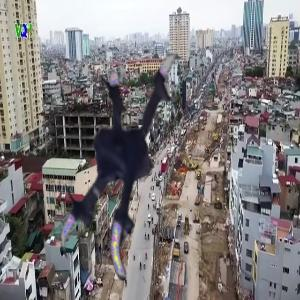drone: (29, 56, 257, 284)
